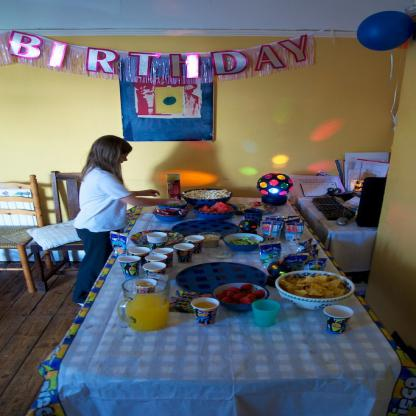Ball: (256, 173, 296, 196)
